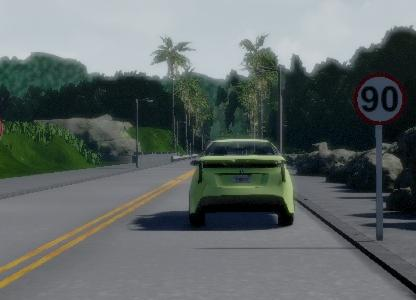Speed_90: (351, 69, 409, 129)
